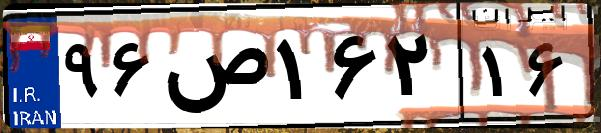1: (270, 28, 330, 110), (475, 38, 525, 113)
2: (385, 28, 445, 110)
6: (330, 28, 385, 110), (525, 38, 570, 115), (110, 28, 158, 98)
9: (57, 26, 110, 100)
ص: (158, 20, 270, 120)
